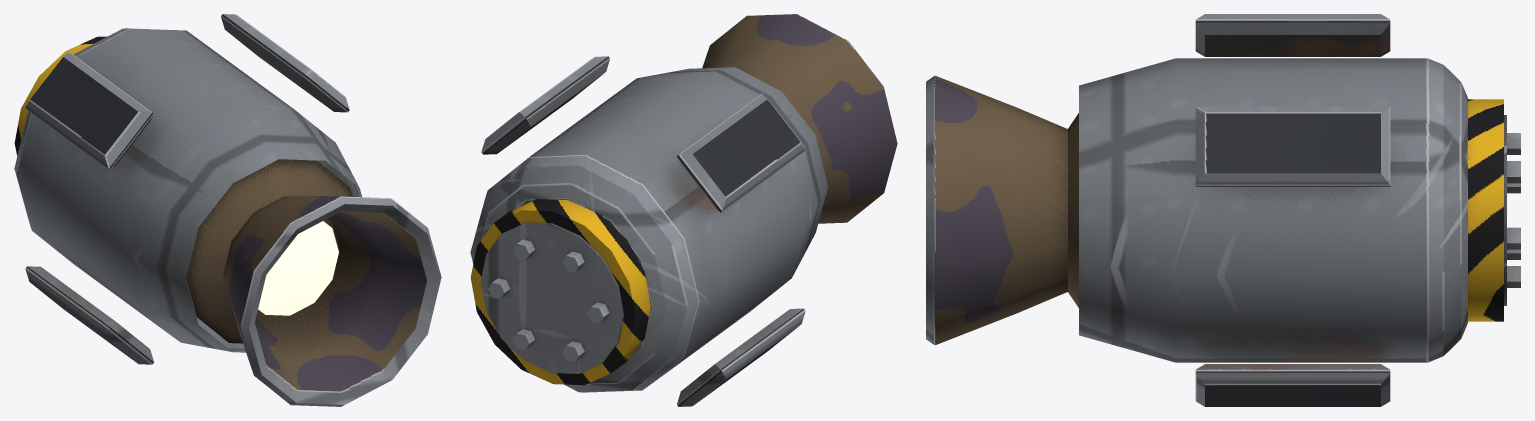
Rendered from motor_auxiliar_t1.fbx.
3 renders of one model, left to right at view 1: azimuth 30°, elevation 25°; view 2: azimuth 150°, elevation 25°; view 3: azimuth 270°, elevation 25°, orthographic. The views are drawn at different scales.
Parts seen in each view (by area): view 1: motor_auxiliar_t1, motor_auxiliar_t1_neon; view 2: motor_auxiliar_t1; view 3: motor_auxiliar_t1.
Part boxes in pixels (left/top/right/bottom): motor_auxiliar_t1: left=14, top=14, right=441, bottom=406; motor_auxiliar_t1_neon: left=258, top=221, right=338, bottom=315; motor_auxiliar_t1: left=470, top=14, right=897, bottom=406; motor_auxiliar_t1: left=926, top=14, right=1520, bottom=406.
Size of the model in its own units: 1.17 by 1.17 by 2.14.
